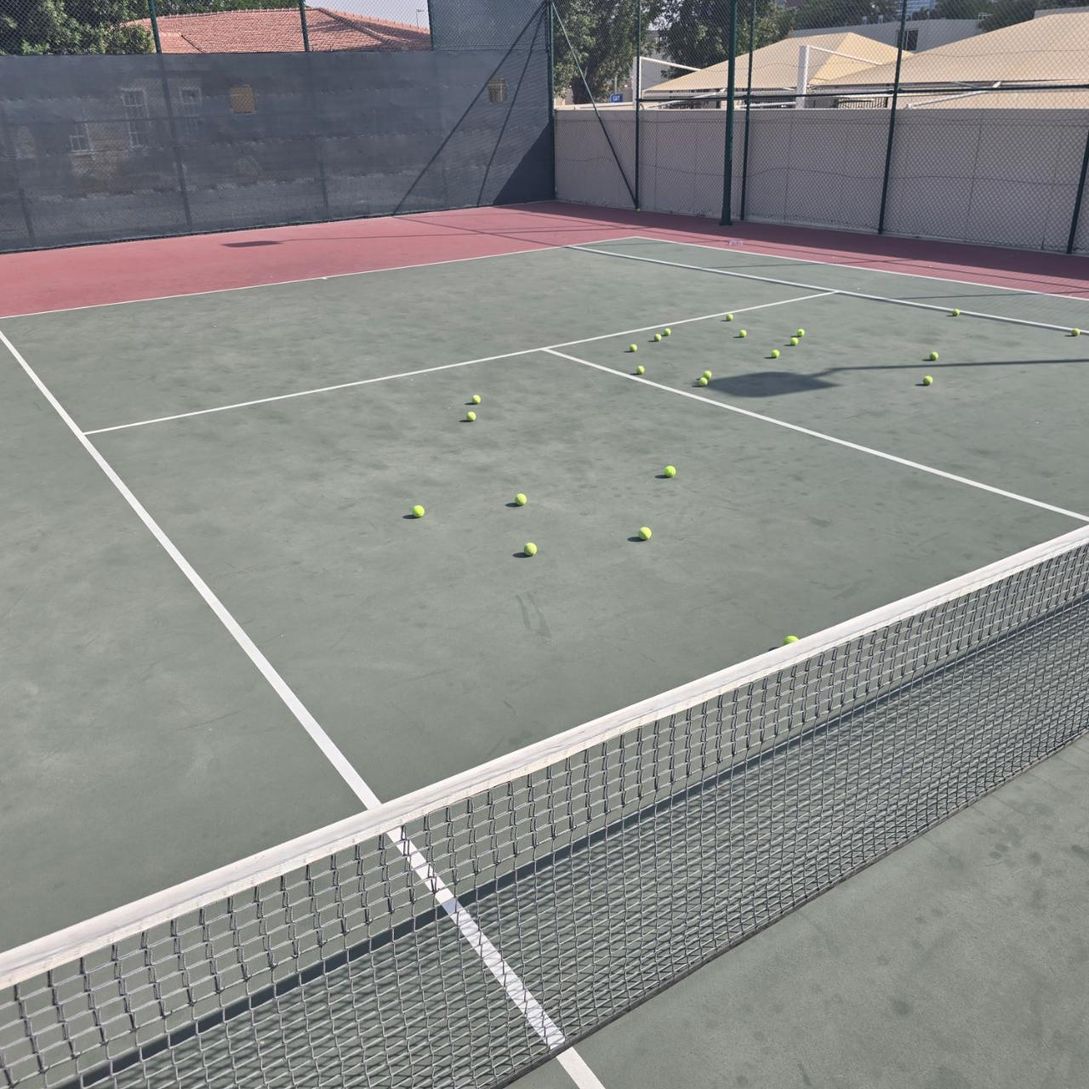tennis-ball: (637, 524, 652, 540), (523, 540, 537, 555), (411, 503, 425, 517), (783, 632, 798, 645), (514, 491, 527, 505), (664, 463, 676, 477), (469, 392, 481, 404), (921, 373, 933, 385), (467, 411, 477, 422), (635, 365, 645, 375), (628, 343, 638, 353), (702, 370, 713, 379), (698, 377, 708, 386), (796, 328, 805, 338), (929, 352, 939, 361), (1071, 328, 1080, 338), (663, 327, 672, 336), (653, 333, 661, 342), (771, 349, 779, 358), (739, 329, 747, 338), (952, 308, 960, 316), (790, 338, 798, 345), (726, 314, 733, 321)
